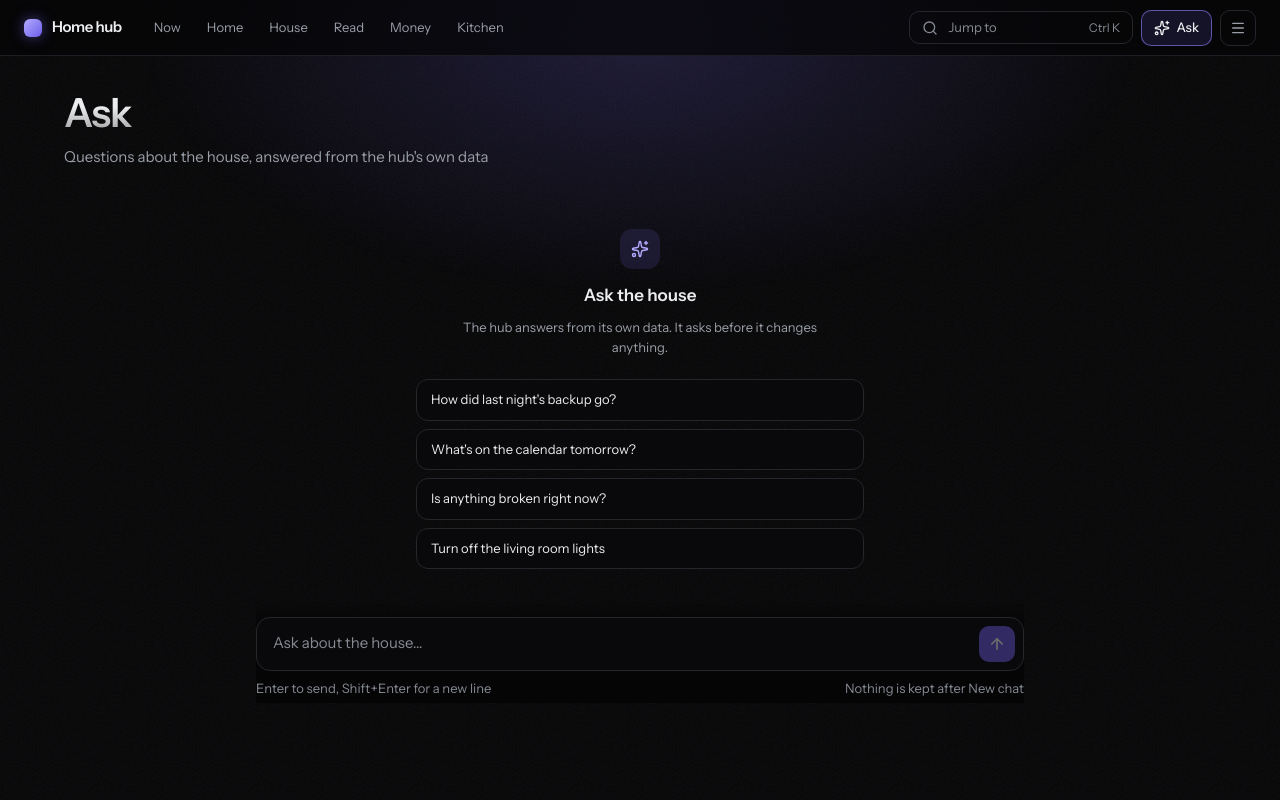
Test: AskPage › answers a question with the tools it used and the month’s spend
This screenshot has width=1280, height=800.
Check: the heading "Ask the house" is shown, box [584, 282, 696, 308]
In the text box named "Your question": (621, 644) [273, 626, 969, 662], type "  Is my train on time?  "
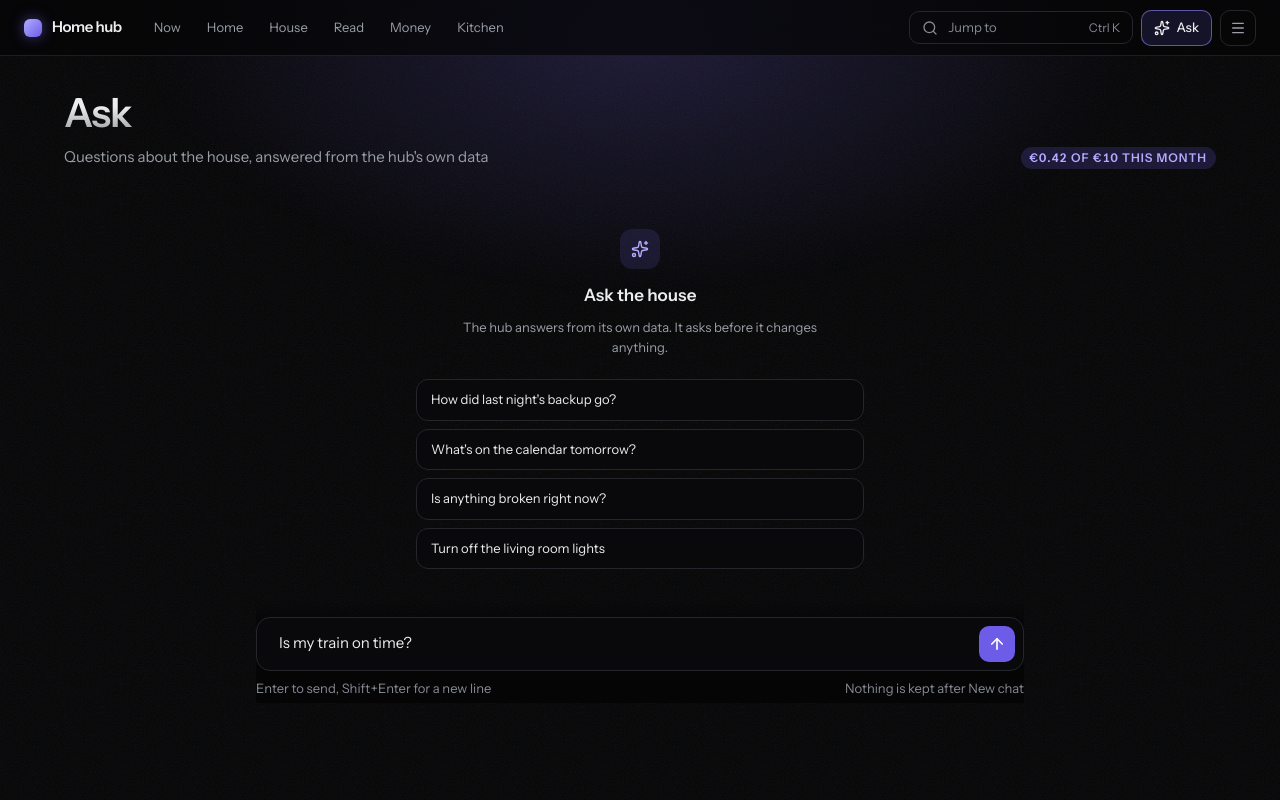
Press Enter in the text box named "Your question", box [273, 626, 969, 662]
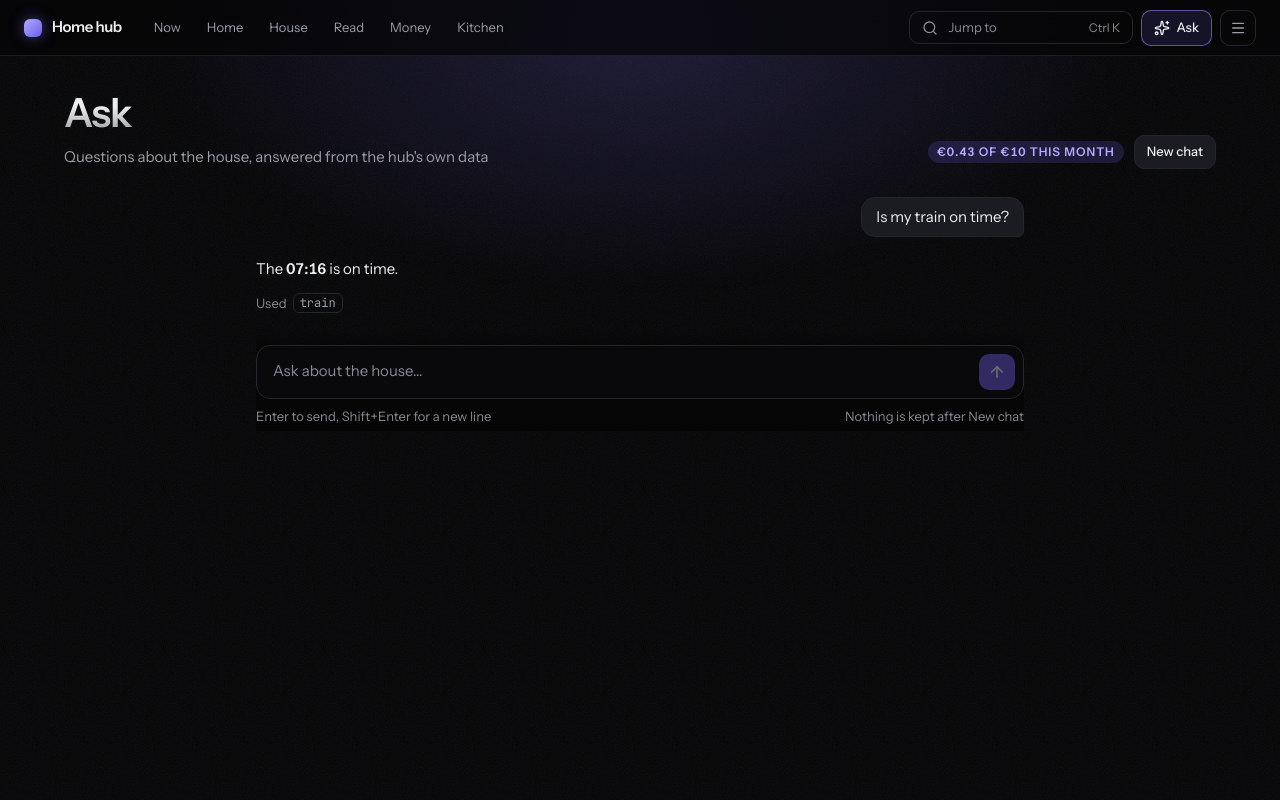
Check: the list named "Conversation" shows "Is my train on time?", box [876, 206, 1009, 226]
